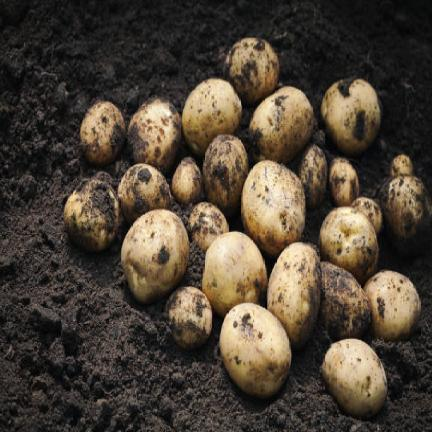potato: (220, 303, 290, 398), (121, 210, 188, 303), (241, 161, 305, 256), (268, 242, 320, 347), (202, 232, 267, 316), (322, 339, 386, 416), (249, 87, 313, 163), (181, 78, 241, 156), (320, 78, 380, 155), (320, 206, 378, 284), (64, 179, 119, 251), (380, 176, 431, 253), (364, 270, 419, 340), (128, 97, 180, 170), (320, 262, 370, 337), (224, 37, 279, 104), (203, 136, 248, 215), (119, 164, 172, 222), (80, 102, 125, 164), (165, 287, 210, 347), (189, 202, 228, 251), (299, 145, 327, 209), (172, 158, 203, 202), (329, 157, 358, 204), (351, 197, 382, 235), (390, 155, 412, 177)
